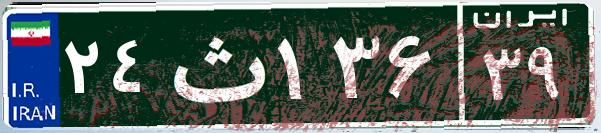1: (273, 28, 330, 110)
2: (57, 26, 110, 107)
3: (330, 28, 385, 110), (475, 38, 525, 113)
4: (110, 28, 158, 105)
6: (385, 28, 445, 110)
9: (525, 38, 570, 115)
ث: (158, 15, 273, 115)
